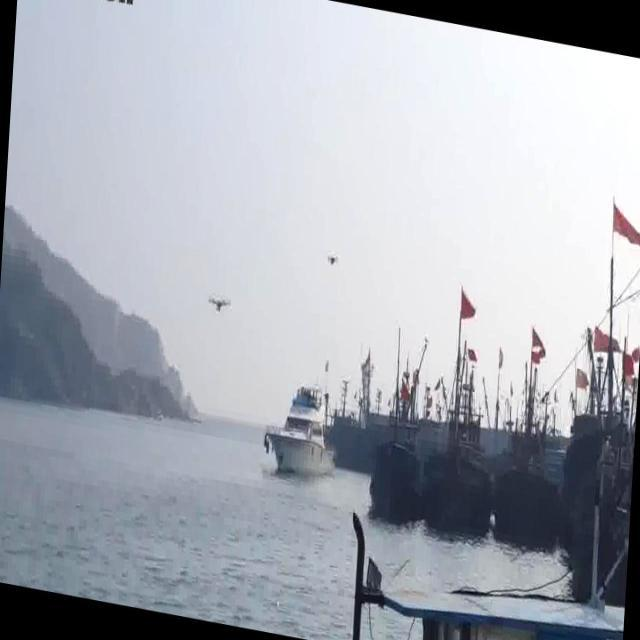drone: (200, 282, 238, 324), (323, 244, 341, 270)
